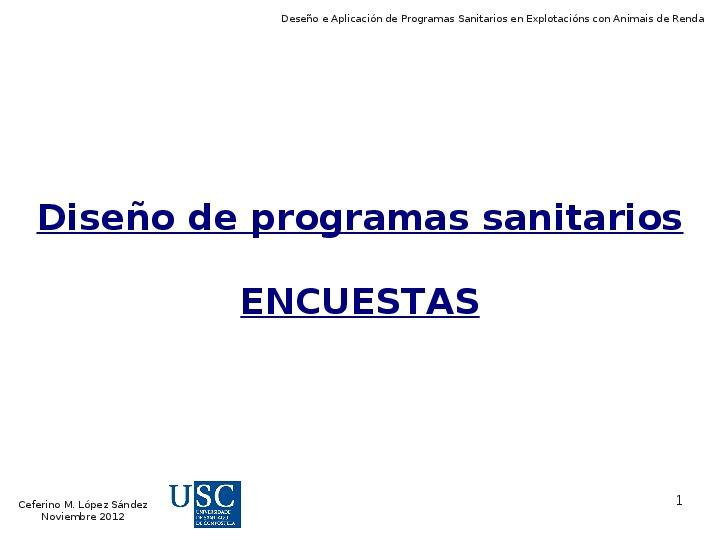subtitle: (25, 170, 698, 343), (12, 475, 293, 536)
title: (278, 6, 720, 36)
